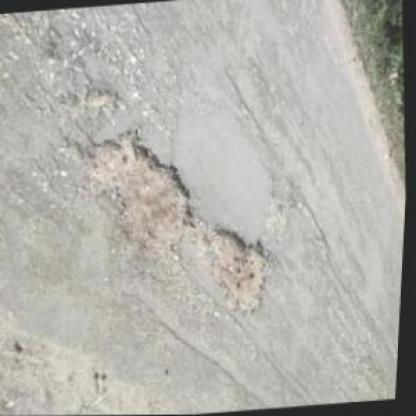pothole: (86, 129, 202, 268), (200, 219, 283, 323), (80, 85, 120, 122)
